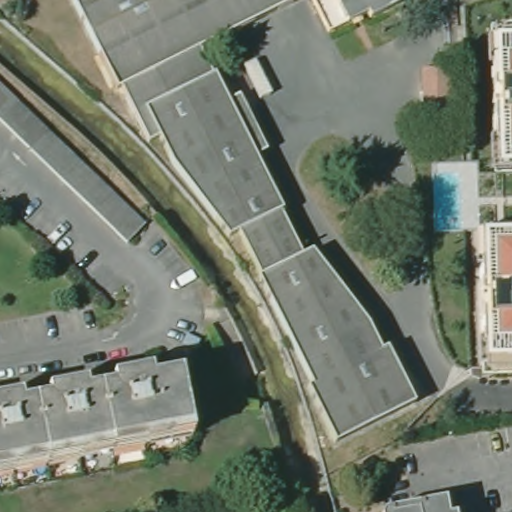pool: (429, 169, 466, 231)
